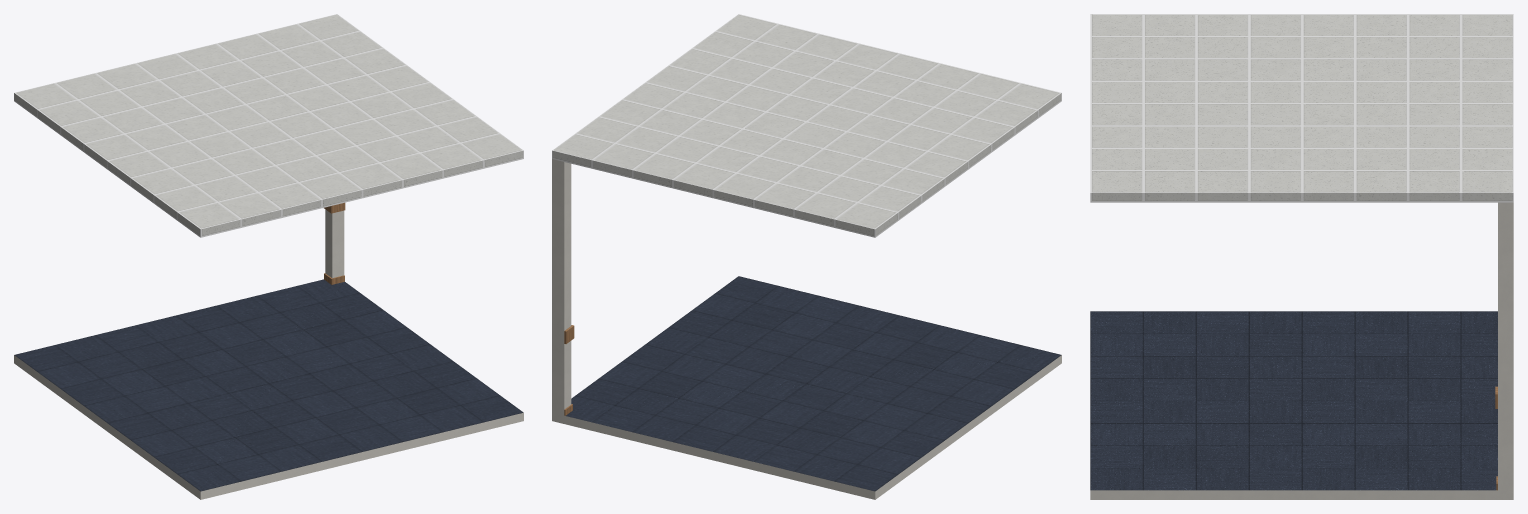
File: Room_Office_Pillar.glb
3 views of the same model, side by side, from view 1: azimuth 30°, elevation 25°; view 2: azimuth 150°, elevation 25°; view 3: azimuth 270°, elevation 25° (orthographic). The views are drawn at different scales.
Visible parts, largest first — view 1: Room_Office_Pillar, Room_Office_Pillar_Ceiling; view 2: Room_Office_Pillar, Room_Office_Pillar_Ceiling; view 3: Room_Office_Pillar, Room_Office_Pillar_Ceiling.
Part boxes in pixels (x1=…): Room_Office_Pillar: x1=14, y1=202, x2=523, y2=499; Room_Office_Pillar_Ceiling: x1=14, y1=14, x2=523, y2=237; Room_Office_Pillar: x1=552, y1=159, x2=1061, y2=499; Room_Office_Pillar_Ceiling: x1=552, y1=14, x2=1061, y2=237; Room_Office_Pillar: x1=1090, y1=202, x2=1513, y2=499; Room_Office_Pillar_Ceiling: x1=1090, y1=14, x2=1513, y2=202.
Size of the model in its own units: 4 by 3.2 by 4.
6 materials, 4 textured.
